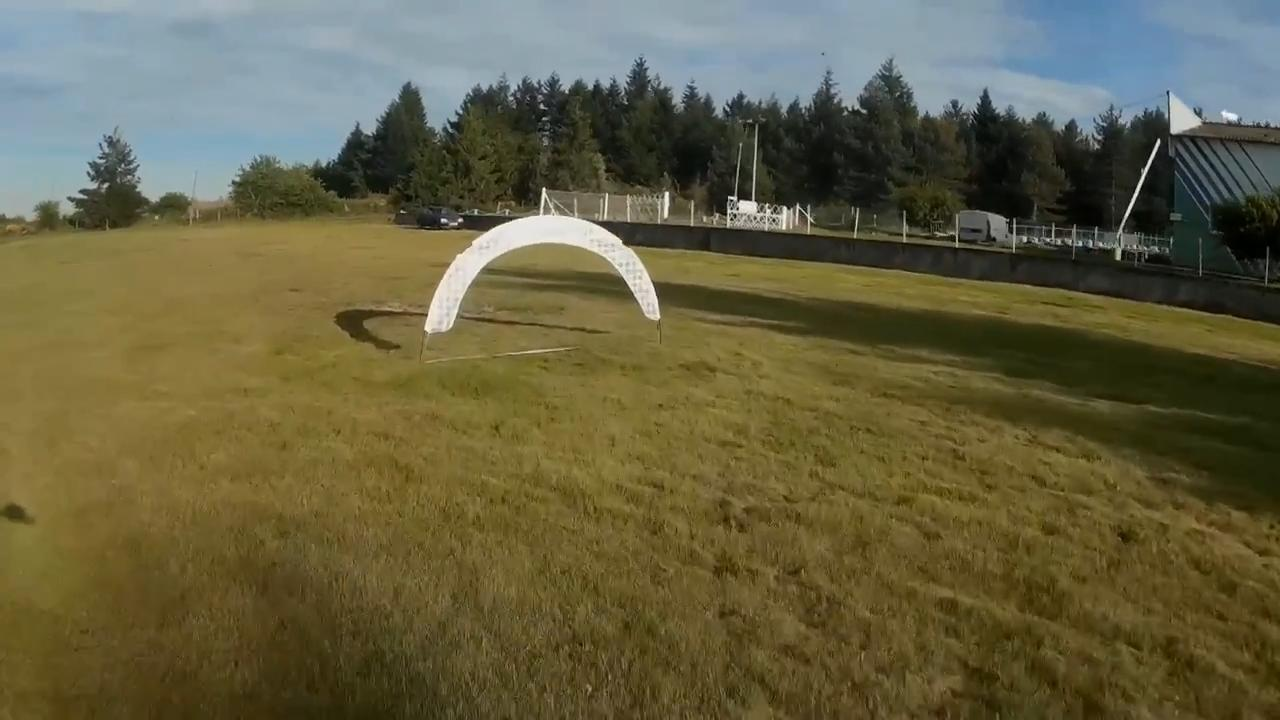gate: (424, 211, 659, 334)
